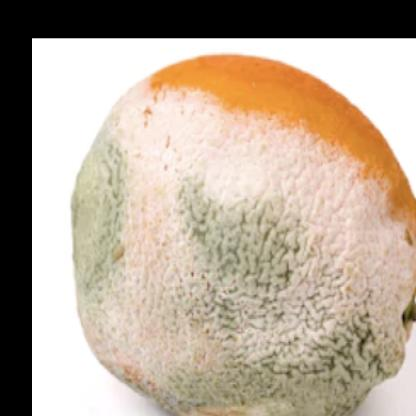rotten: (70, 56, 416, 416)
